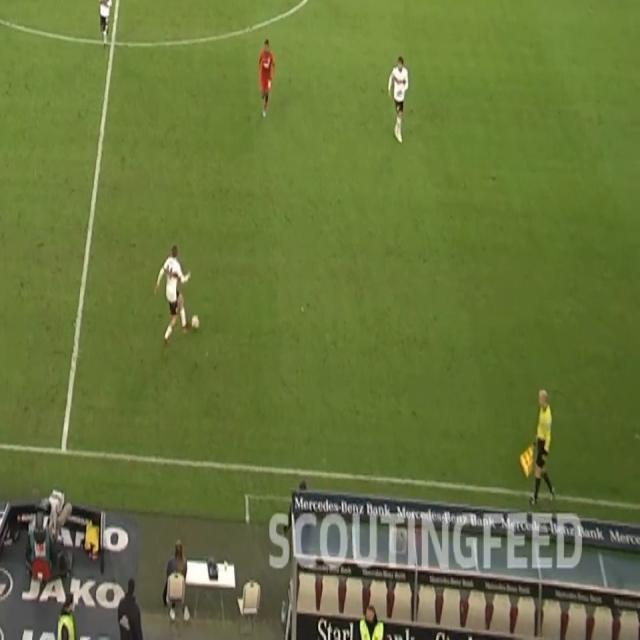ball: (190, 313, 201, 334)
